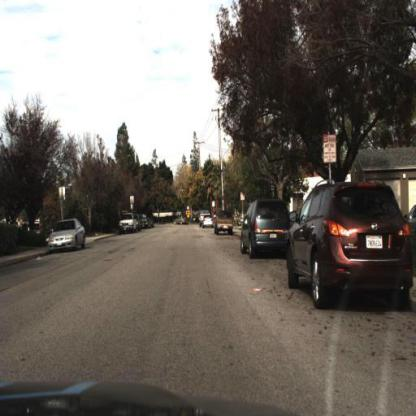car: (283, 174, 415, 309), (285, 180, 416, 311), (240, 198, 295, 266), (240, 196, 293, 259), (46, 215, 90, 254), (45, 216, 89, 252), (211, 206, 236, 239), (117, 215, 137, 236), (173, 212, 190, 230), (202, 213, 217, 233), (138, 217, 152, 233)
